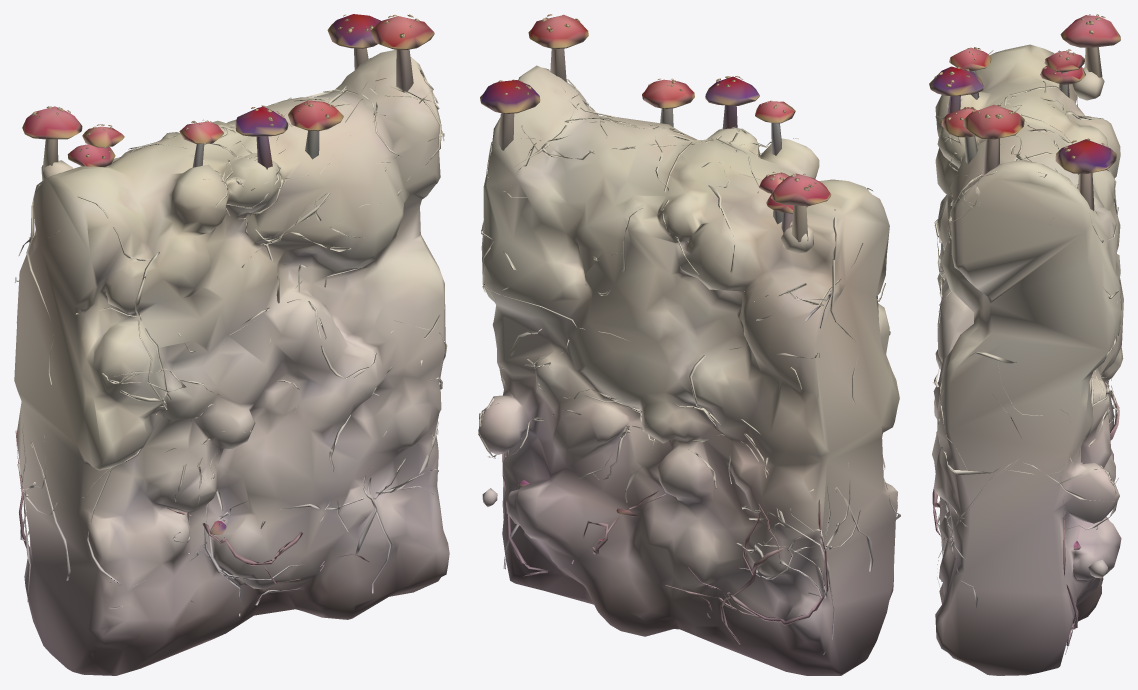
File: labirent_duvar_b.glb
3 views of the same model, side by side, from view 1: azimuth 30°, elevation 25°; view 2: azimuth 150°, elevation 25°; view 3: azimuth 270°, elevation 25° (orthographic). The views are drawn at different scales.
Parts seen in each view (by area): view 1: labirent_duvar_b_LOD0; view 2: labirent_duvar_b_LOD0; view 3: labirent_duvar_b_LOD0.
Part boxes in pixels (left/top/right/bottom): labirent_duvar_b_LOD0: left=14, top=14, right=449, bottom=675; labirent_duvar_b_LOD0: left=478, top=14, right=900, bottom=675; labirent_duvar_b_LOD0: left=929, top=14, right=1123, bottom=675.
Size of what is drawn, in the model's own units: 3.57 by 5.44 by 1.69.
